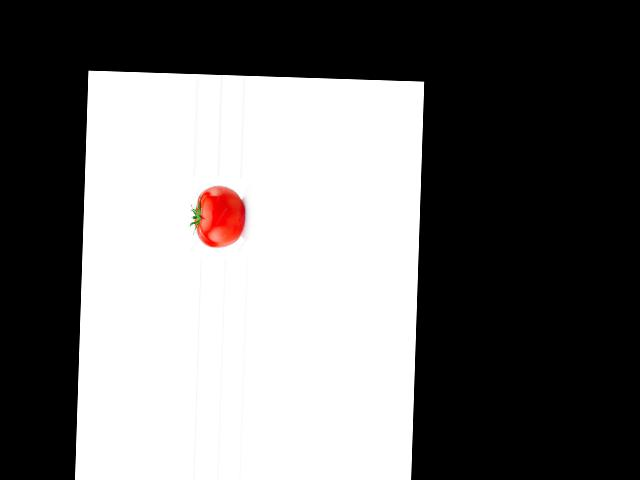tomato: (194, 185, 244, 249)
